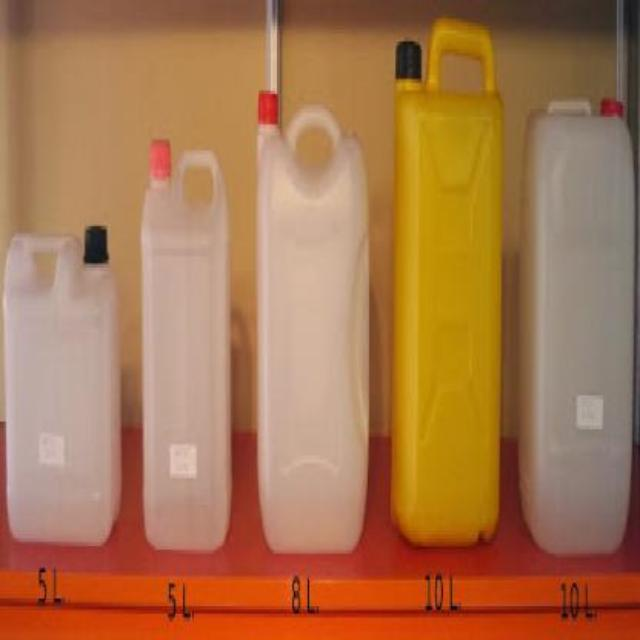chemical_plastic_gallon: (386, 12, 509, 558), (247, 65, 376, 580), (518, 80, 632, 568), (135, 118, 239, 572), (2, 196, 128, 564)
